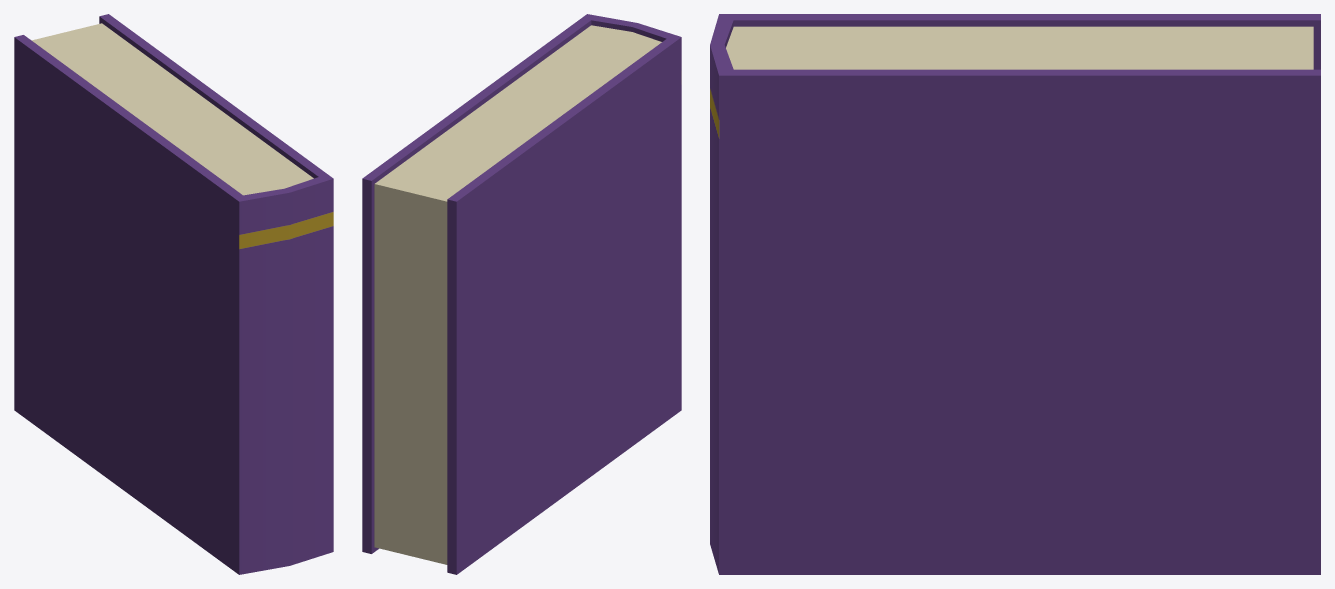
The model's file is book1.fbx.
The picture shows the model from 3 angles, left to right: view 1: azimuth 30°, elevation 25°; view 2: azimuth 150°, elevation 25°; view 3: azimuth 270°, elevation 25°; orthographic projection. The views are drawn at different scales.
Parts seen in each view (by area): view 1: Book1; view 2: Book1; view 3: Book1.
Part boxes in pixels (x1,y1,x2,y2): Book1: (14,14,333,574); Book1: (362,14,681,574); Book1: (710,14,1320,574).
Size of the model in its own units: 50 by 189 by 209.
Materials: 1 (1 with a texture image).
